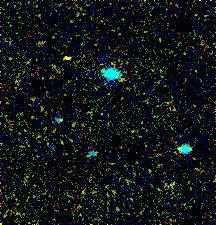star: (50, 42, 80, 72)
